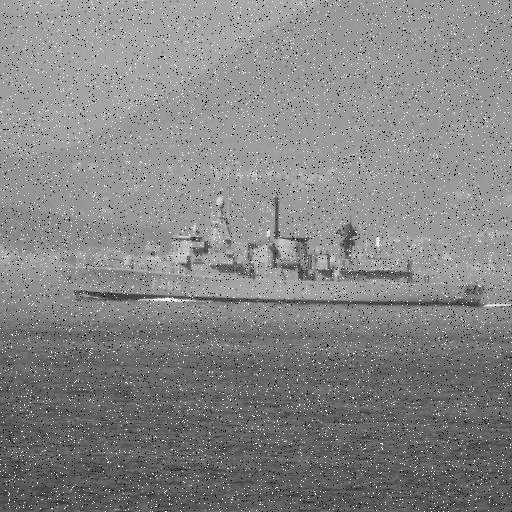Fragata: (59, 188, 492, 314)
